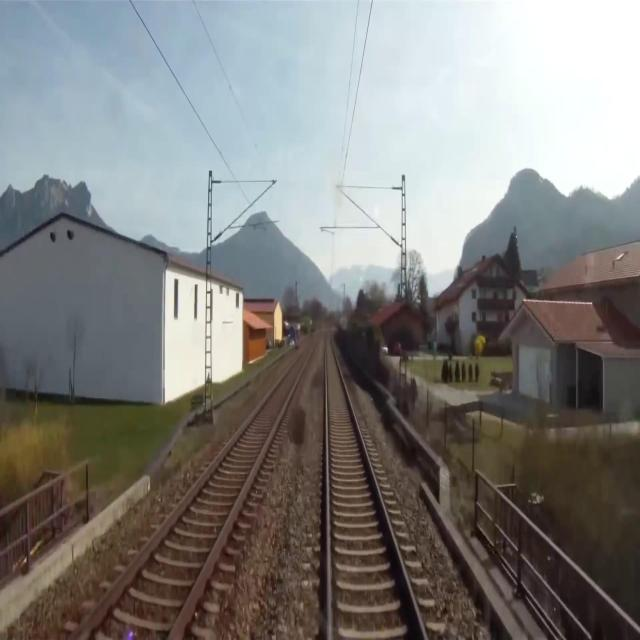rail-track: (74, 342, 314, 639), (326, 337, 422, 639)
